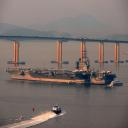Portanaves: (6, 60, 118, 87)
